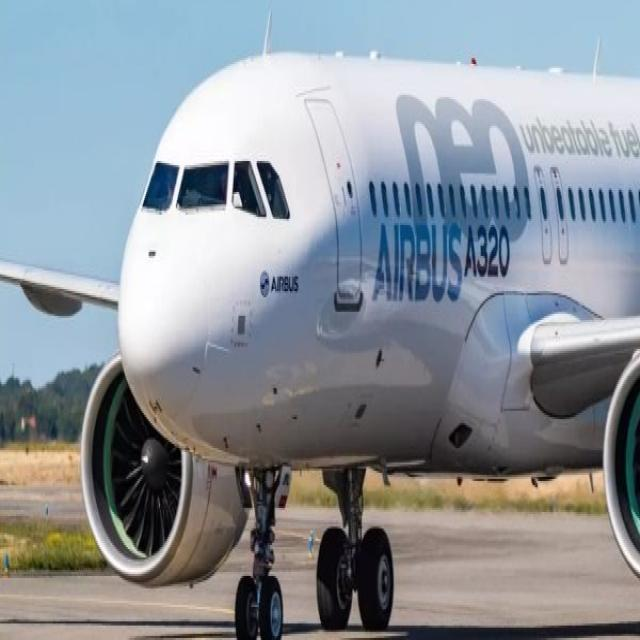aircraft: (10, 0, 640, 639)
